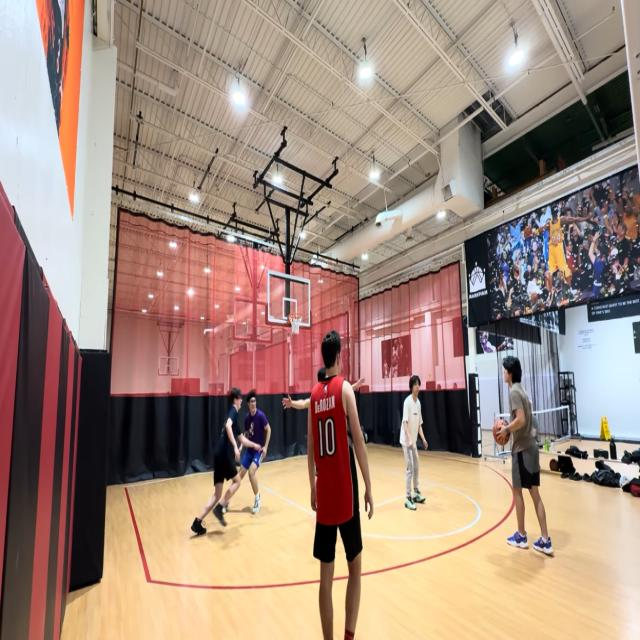Basketball: (492, 419, 510, 445)
Basketball Rim: (289, 312, 302, 334)
